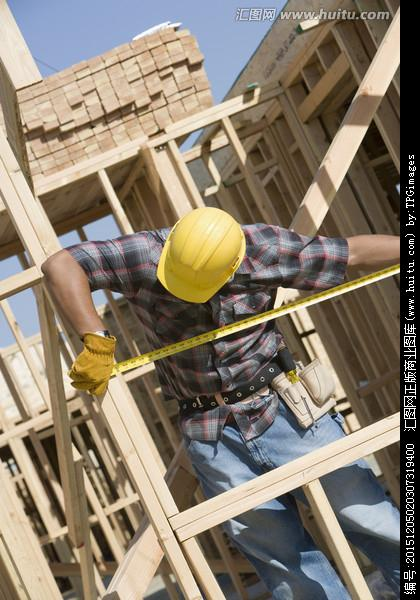helmet: (158, 211, 248, 308)
